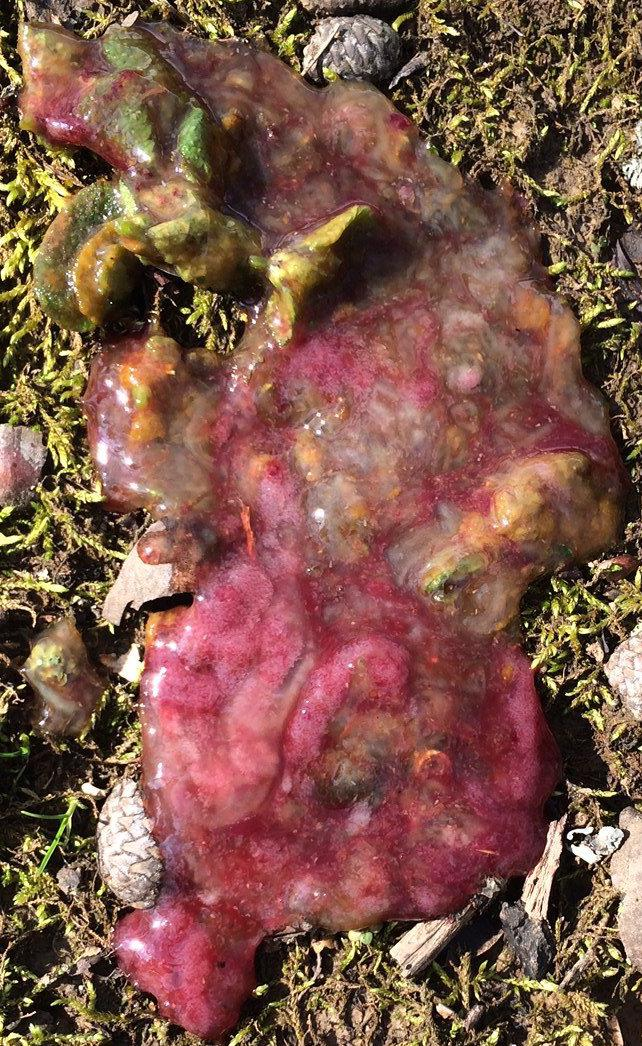dog_poop: (1, 1, 641, 1045)
